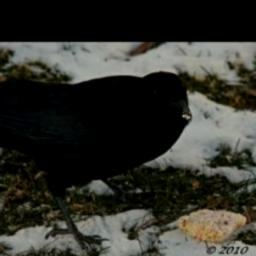Crow: (0, 70, 193, 249)
